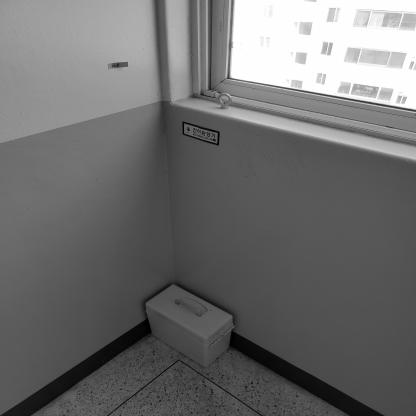DDL: (144, 284, 235, 368)
